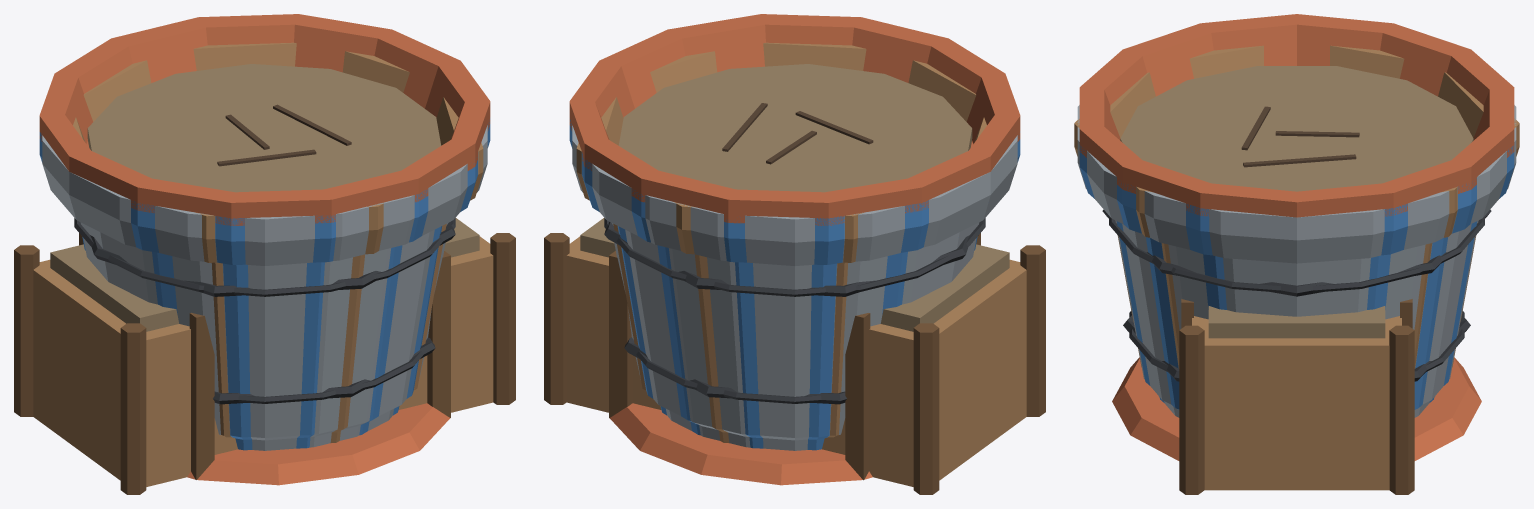
Rendered from pots.glb.
3 views of the same model, side by side, from view 1: azimuth 30°, elevation 25°; view 2: azimuth 150°, elevation 25°; view 3: azimuth 270°, elevation 25° (orthographic).
Parts seen in each view (by area): view 1: pot_terracotta_dry, pot_roof_planter_dry, pot_metal_dry, pot_painted_dry, pot_wood_dry; view 2: pot_terracotta_dry, pot_roof_planter_dry, pot_metal_dry, pot_painted_dry, pot_wood_dry; view 3: pot_terracotta_dry, pot_roof_planter_dry, pot_metal_dry, pot_painted_dry, pot_wood_dry.
Boxes of the visible parts, <box> form: pot_terracotta_dry: <box>39,14,490,485</box>; pot_roof_planter_dry: <box>14,218,515,494</box>; pot_metal_dry: <box>42,125,487,450</box>; pot_painted_dry: <box>39,119,490,450</box>; pot_wood_dry: <box>73,42,483,442</box>; pot_terracotta_dry: <box>569,14,1020,485</box>; pot_roof_planter_dry: <box>544,218,1045,494</box>; pot_metal_dry: <box>572,125,1017,450</box>; pot_painted_dry: <box>569,119,1020,450</box>; pot_wood_dry: <box>576,42,986,442</box>; pot_terracotta_dry: <box>1079,14,1514,460</box>; pot_roof_planter_dry: <box>1179,299,1414,494</box>; pot_metal_dry: <box>1077,105,1516,417</box>; pot_painted_dry: <box>1079,145,1514,409</box>; pot_wood_dry: <box>1074,45,1519,381</box>.
Size of the model in its own units: 1.06 by 0.77 by 1.06.
